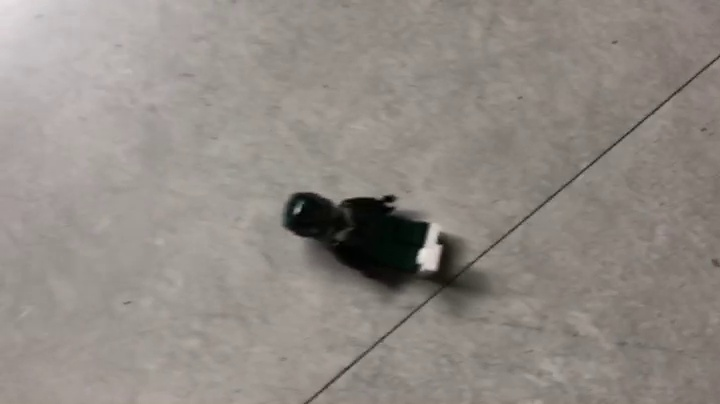people: (282, 190, 457, 291)
